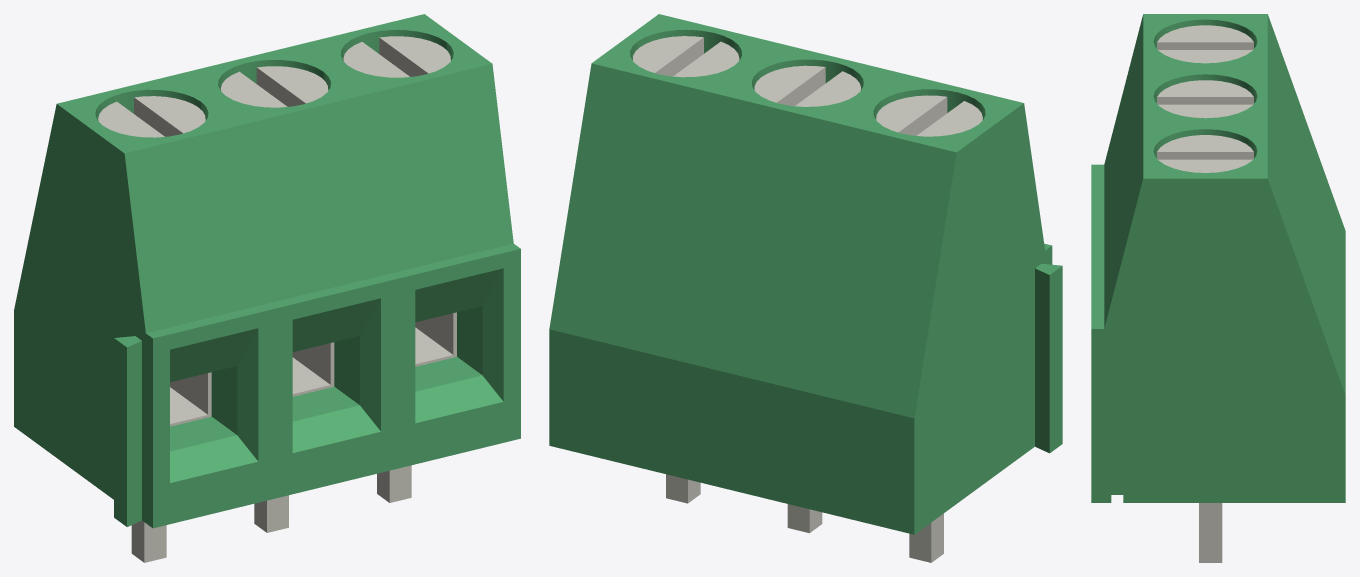
Rendered from kc-terminalblock_phoenix_mkds-1_5-3_1x03_p5.00mm_horizontal.glb.
3 views of the same model, side by side, from view 1: azimuth 30°, elevation 25°; view 2: azimuth 150°, elevation 25°; view 3: azimuth 270°, elevation 25° (orthographic). The views are drawn at different scales.
Parts seen in each view (by area): view 1: 0.08333333333333333_0.4166666666666667_0.16666666666666666_0, 0.6666666666666666_0.6666666666666666_0.5833333333333334_0.8; view 2: 0.08333333333333333_0.4166666666666667_0.16666666666666666_0, 0.6666666666666666_0.6666666666666666_0.5833333333333334_0.8; view 3: 0.08333333333333333_0.4166666666666667_0.16666666666666666_0, 0.6666666666666666_0.6666666666666666_0.5833333333333334_0.8.
Boxes of the visible parts, <box> form: 0.08333333333333333_0.4166666666666667_0.16666666666666666_0: <box>14,14,520,528</box>; 0.6666666666666666_0.6666666666666666_0.5833333333333334_0.8: <box>98,36,456,562</box>; 0.08333333333333333_0.4166666666666667_0.16666666666666666_0: <box>549,14,1062,534</box>; 0.6666666666666666_0.6666666666666666_0.5833333333333334_0.8: <box>632,36,982,562</box>; 0.08333333333333333_0.4166666666666667_0.16666666666666666_0: <box>1091,14,1345,502</box>; 0.6666666666666666_0.6666666666666666_0.5833333333333334_0.8: <box>1157,25,1253,562</box>.
Size of the model in its own units: 1.57 by 1.73 by 0.98.
